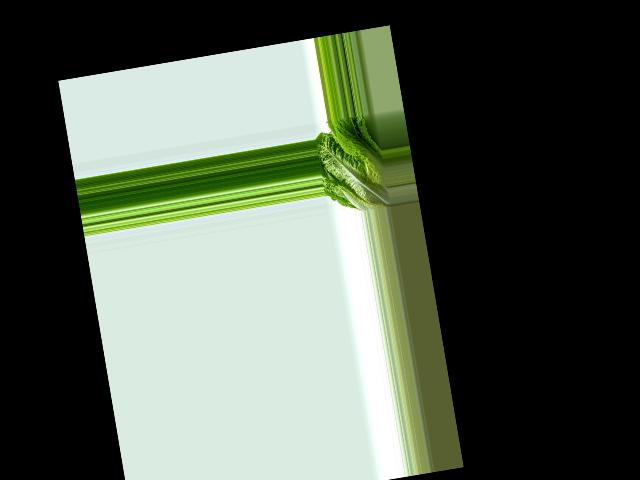lettuce: (313, 112, 390, 216)
